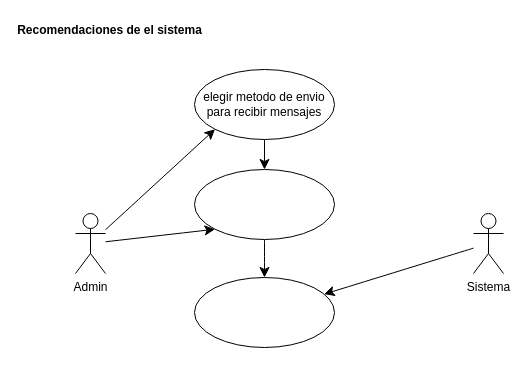
Some shapes in this 527 by 365 pixel diagram are drawn without their labels. Here are the shapes that lost their labels. From the top down, the centre of each, then its label:
point (264, 204): a que horario va a recibir los mensajes
point (264, 312): enviar mensajes
